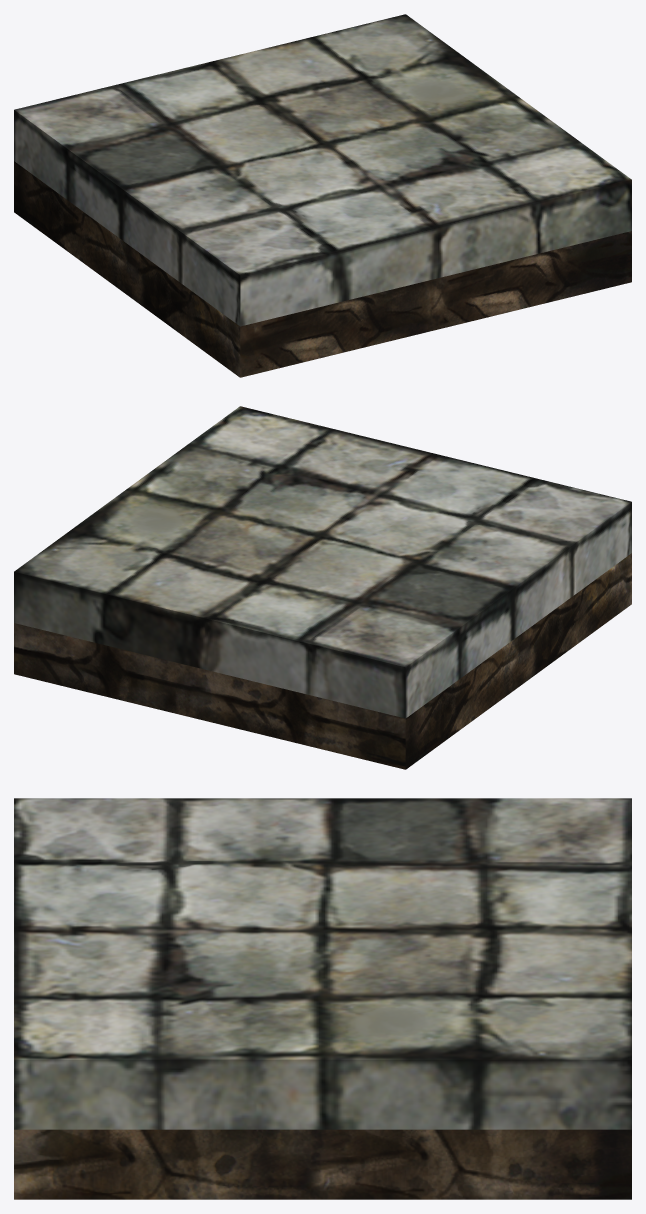
Rendered from STR_FloorTileMid.FBX.
The picture shows the model from 3 angles, top to bottom: view 1: azimuth 30°, elevation 25°; view 2: azimuth 150°, elevation 25°; view 3: azimuth 270°, elevation 25°; orthographic projection. The views are drawn at different scales.
Visible parts, largest first — view 1: STR_FloorTileMid; view 2: STR_FloorTileMid; view 3: STR_FloorTileMid.
Boxes of the visible parts, x1,y1,x2,y2 form: STR_FloorTileMid: (14,14,631,377); STR_FloorTileMid: (14,406,631,769); STR_FloorTileMid: (14,798,631,1199).
Size of the model in its own units: 400 by 100 by 400.
